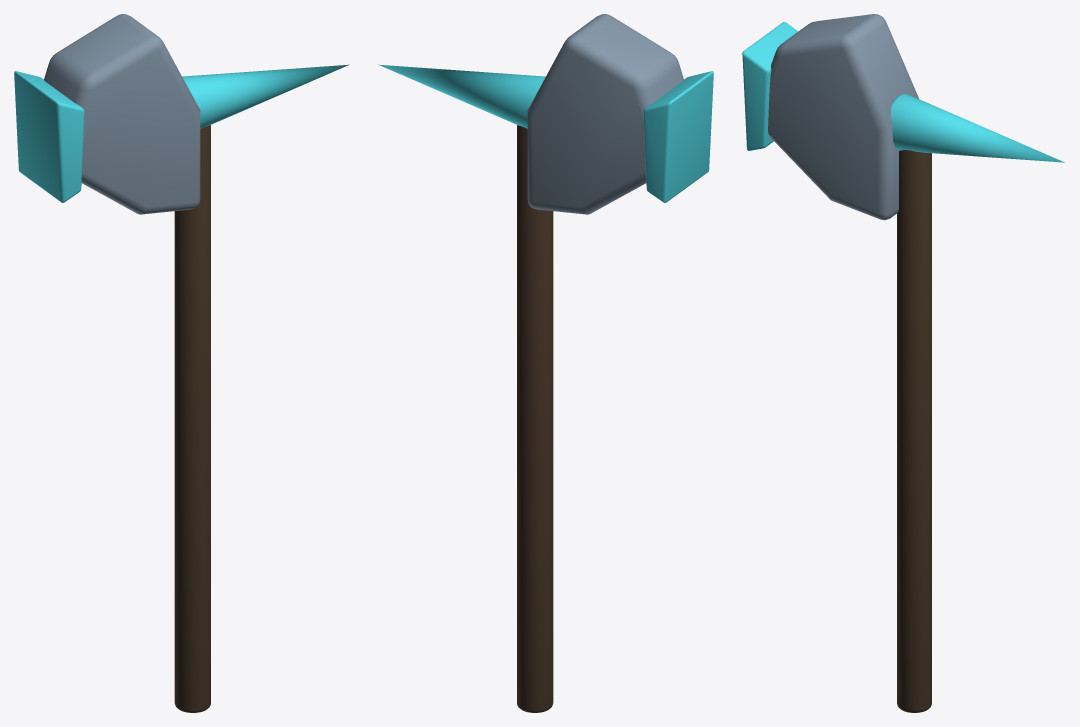
Rendered from axe_v6.glb.
3 views of the same model, side by side, from view 1: azimuth 30°, elevation 25°; view 2: azimuth 150°, elevation 25°; view 3: azimuth 330°, elevation 25° (orthographic). The views are drawn at different scales.
Parts seen in each view (by area): view 1: TOMAHAWK_AXE_HEAD_PRIMARY, AXE_HANDLE_SECONDARY, TOMAHAWK_CUTTING_EDGE_ACCENT, AXE_BACK_SPIKE_ACCENT; view 2: TOMAHAWK_AXE_HEAD_PRIMARY, AXE_HANDLE_SECONDARY, TOMAHAWK_CUTTING_EDGE_ACCENT, AXE_BACK_SPIKE_ACCENT; view 3: TOMAHAWK_AXE_HEAD_PRIMARY, AXE_HANDLE_SECONDARY, AXE_BACK_SPIKE_ACCENT, TOMAHAWK_CUTTING_EDGE_ACCENT.
Boxes of the visible parts, x1,y1,x2,y2 form: TOMAHAWK_AXE_HEAD_PRIMARY: (44,14,200,214); AXE_HANDLE_SECONDARY: (174,125,210,712); TOMAHAWK_CUTTING_EDGE_ACCENT: (14,71,84,202); AXE_BACK_SPIKE_ACCENT: (182,64,349,128); TOMAHAWK_AXE_HEAD_PRIMARY: (527,14,683,214); AXE_HANDLE_SECONDARY: (517,125,553,712); TOMAHAWK_CUTTING_EDGE_ACCENT: (643,71,713,202); AXE_BACK_SPIKE_ACCENT: (378,64,545,128); TOMAHAWK_AXE_HEAD_PRIMARY: (768,14,918,220); AXE_HANDLE_SECONDARY: (897,150,931,712); AXE_BACK_SPIKE_ACCENT: (890,94,1064,162); TOMAHAWK_CUTTING_EDGE_ACCENT: (742,22,797,150).
Bounding box in the file's own units: 1.89 × 4 × 0.47.
